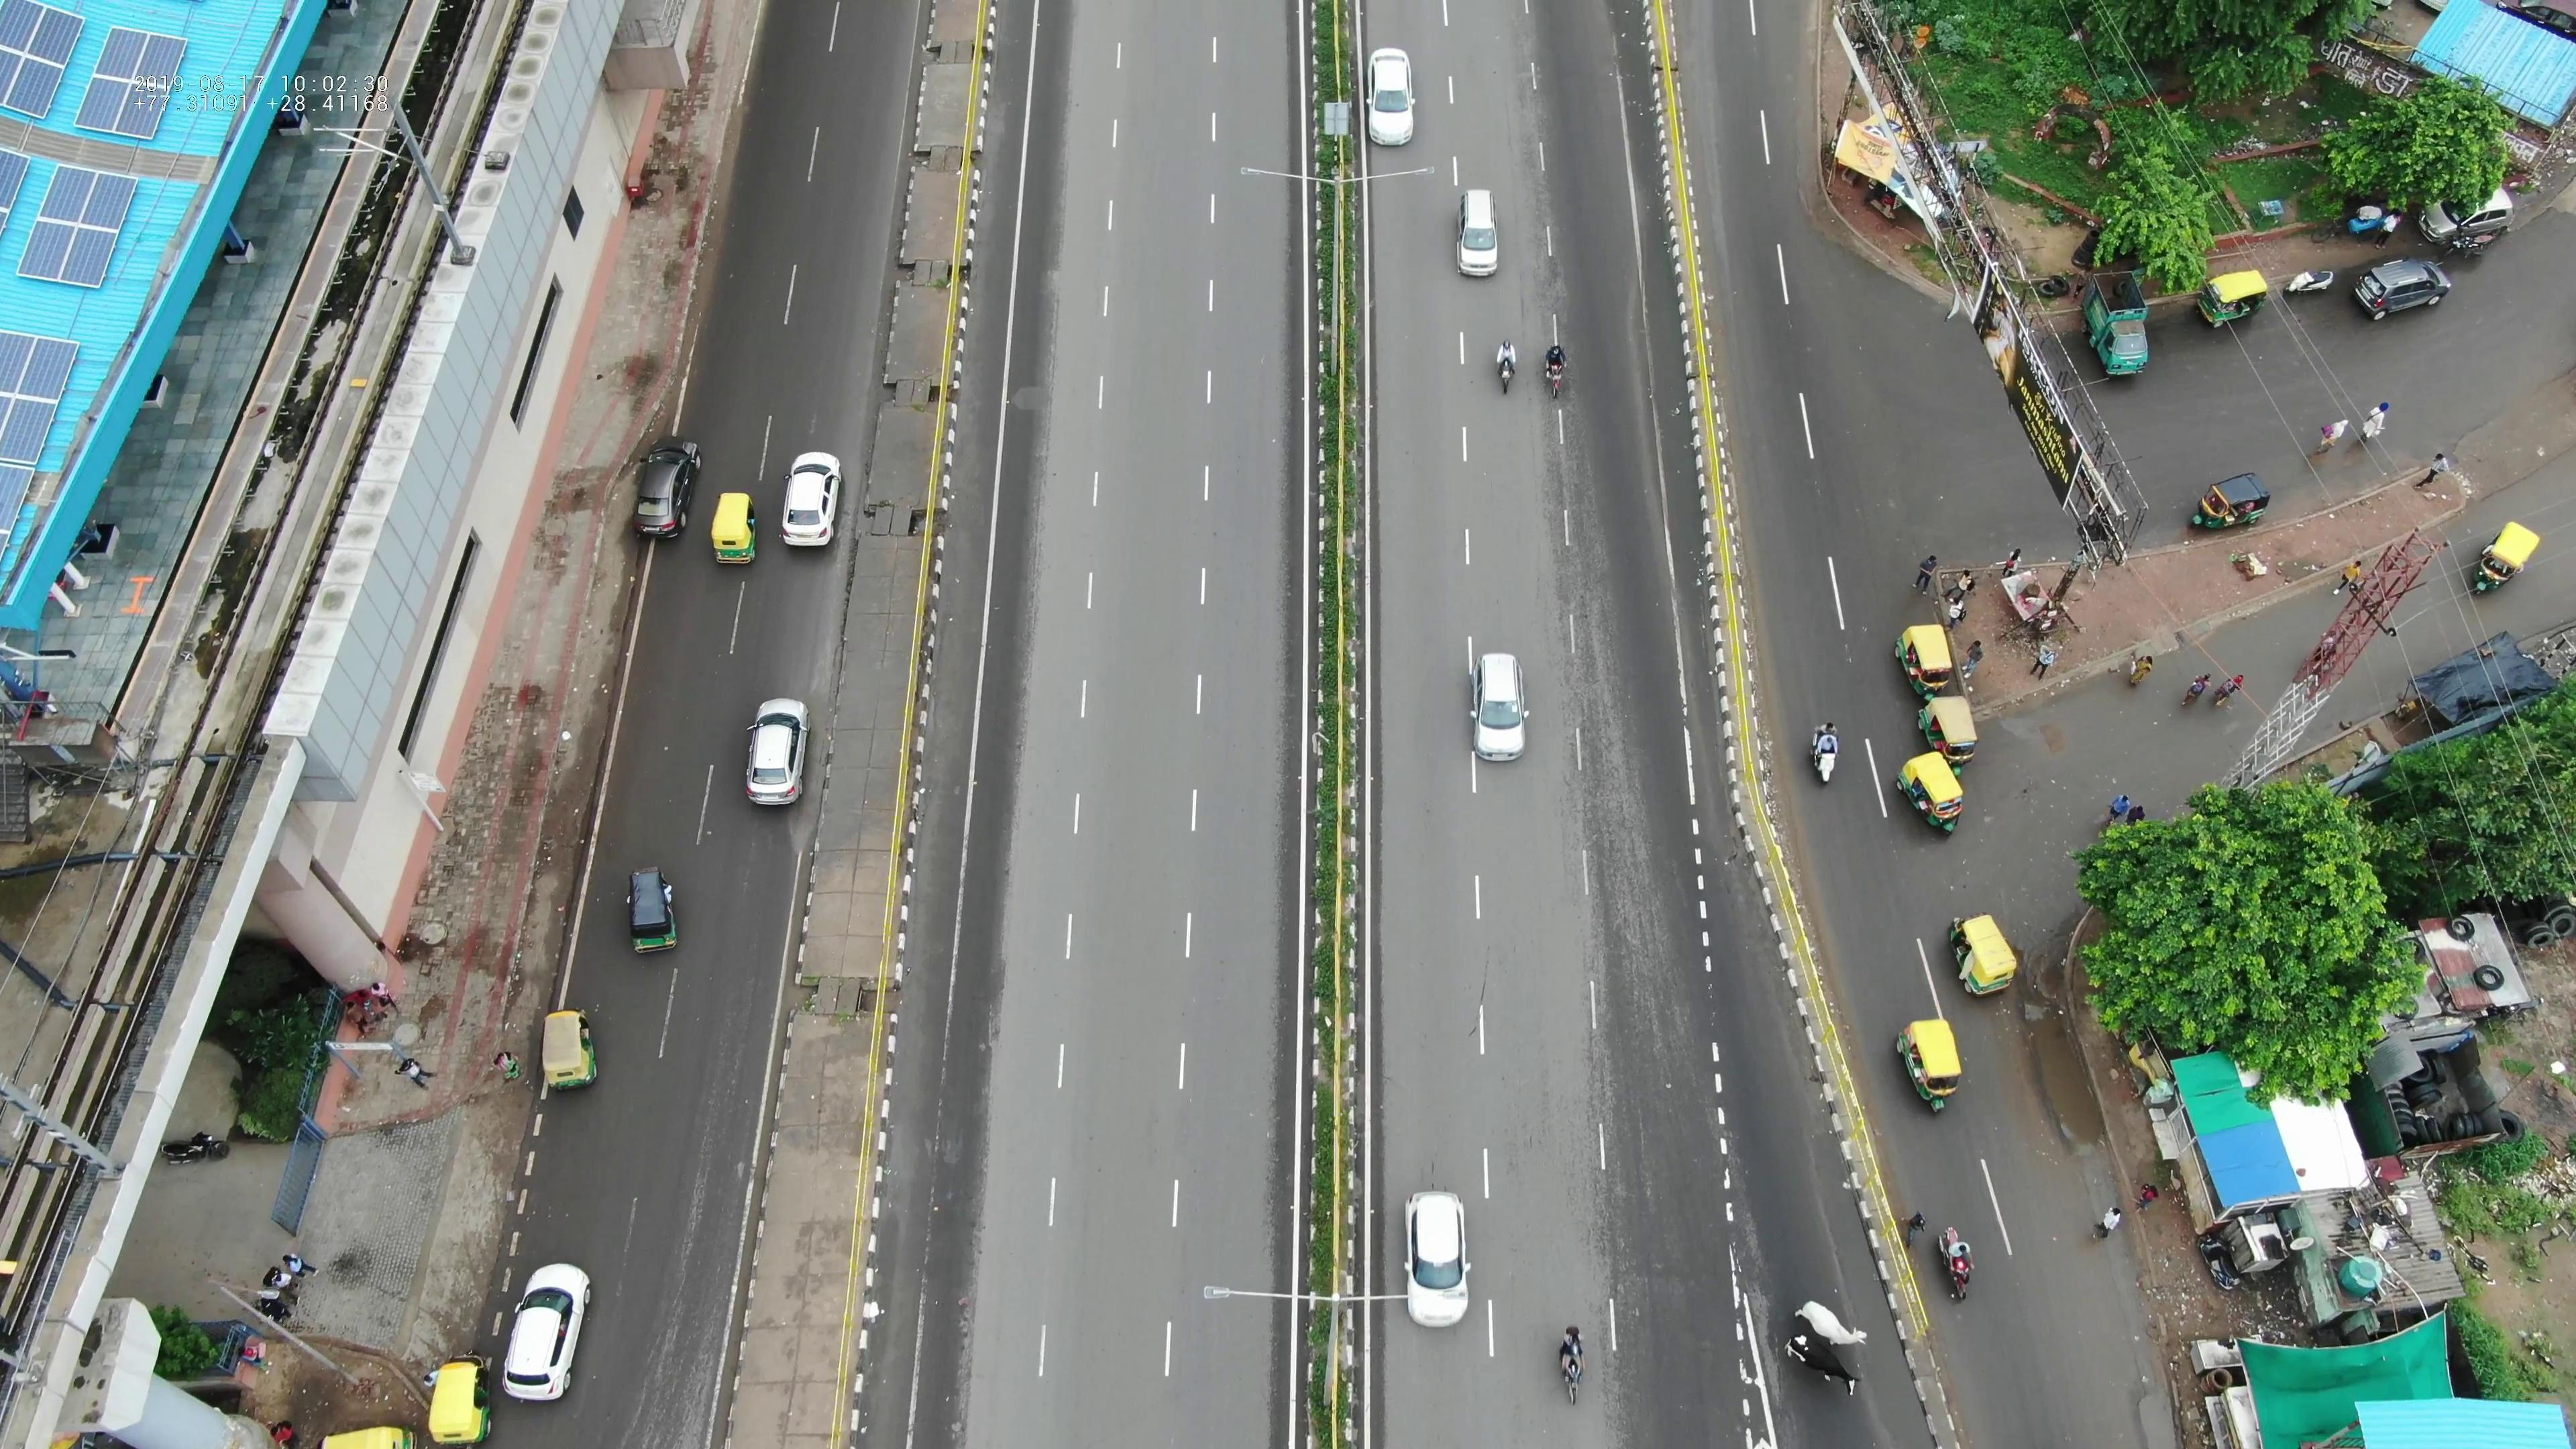Waterlogging: (1626, 212, 1713, 582), (1605, 0, 1667, 179)
